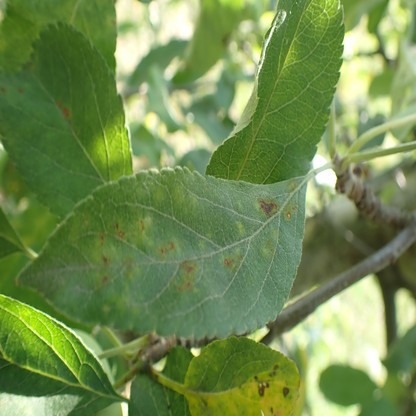powdery_mildew: (22, 252, 69, 291)
rust: (57, 100, 61, 109), (63, 107, 68, 114)
scab: (116, 259, 141, 314), (109, 217, 155, 241), (91, 232, 113, 267), (177, 260, 200, 292), (154, 236, 181, 259), (68, 210, 87, 242), (221, 249, 244, 274), (261, 229, 280, 259), (255, 194, 278, 217), (284, 199, 300, 223), (95, 272, 110, 290), (173, 184, 185, 206), (234, 221, 247, 237), (187, 195, 197, 214), (155, 189, 164, 204), (288, 180, 298, 192), (198, 239, 204, 251), (238, 198, 243, 210), (205, 231, 212, 238)
